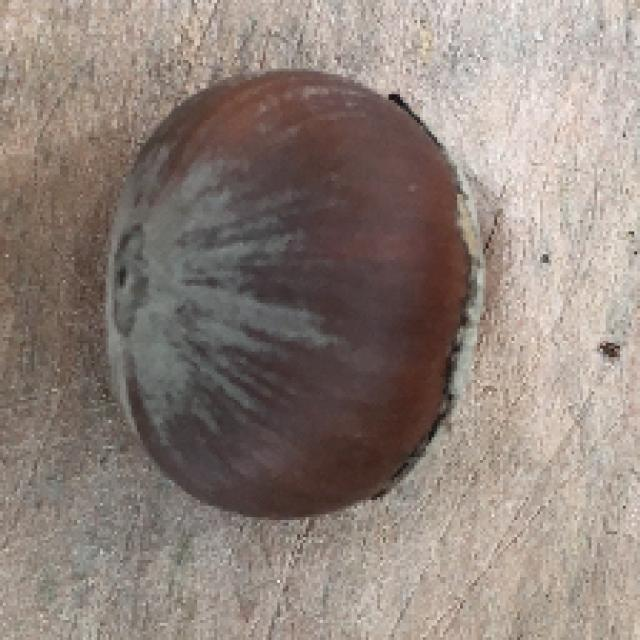damagedHazelnut: (112, 70, 497, 518)
